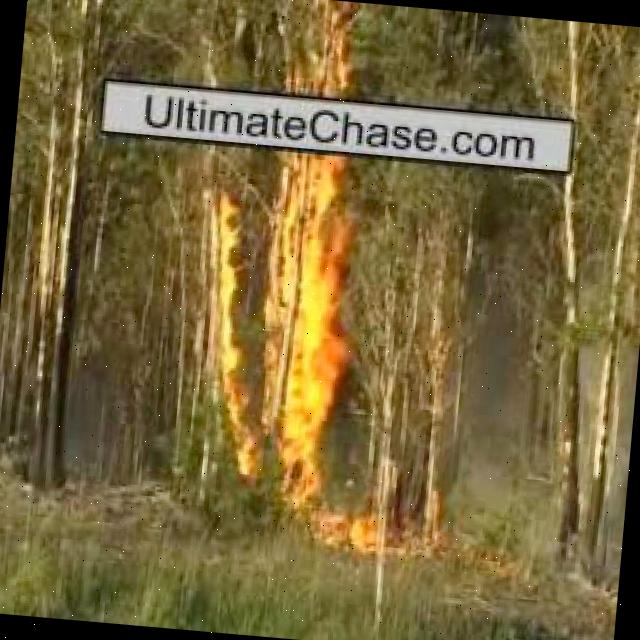fire: (176, 195, 360, 487), (262, 44, 350, 211), (314, 514, 380, 562)
